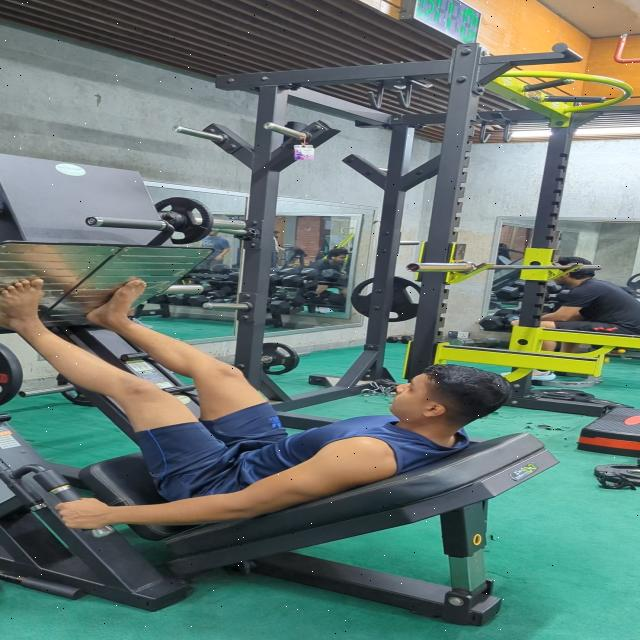Normal_LegPress: (0, 278, 525, 531)
